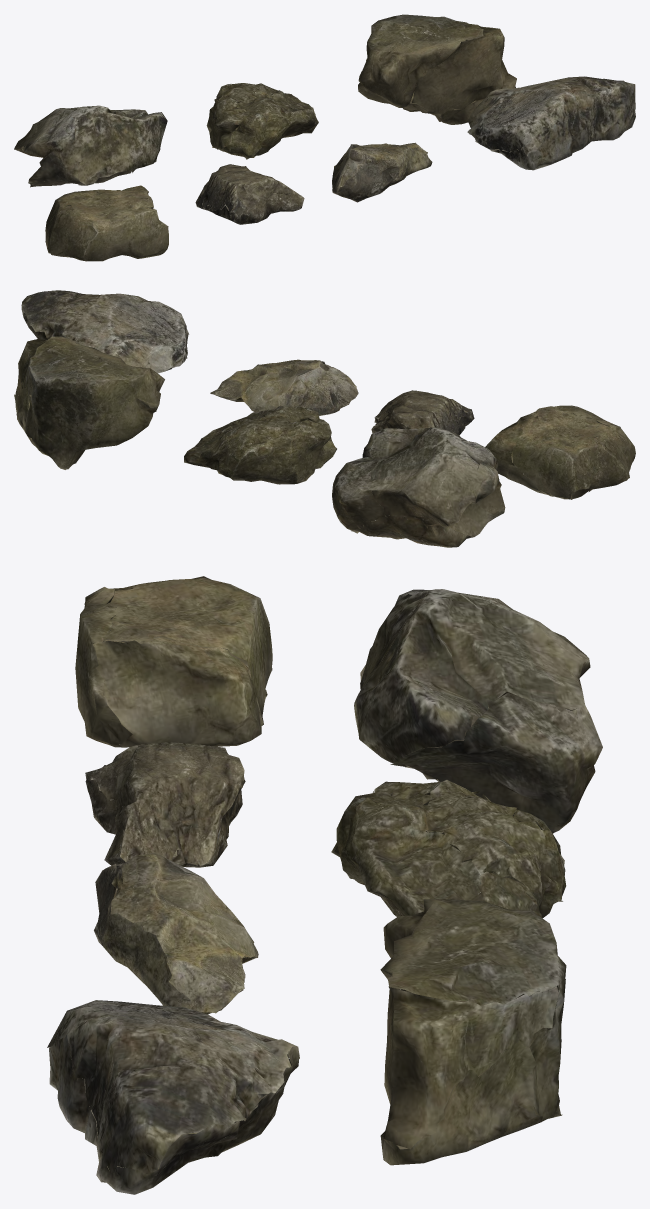
Rendered from ph-rock_moss_set_02.glb.
The picture shows the model from 3 angles, top to bottom: view 1: azimuth 30°, elevation 25°; view 2: azimuth 150°, elevation 25°; view 3: azimuth 270°, elevation 25°; orthographic projection. The views are drawn at different scales.
Parts seen in each view (by area): view 1: rock_moss_set_02; view 2: rock_moss_set_02; view 3: rock_moss_set_02.
Boxes of the visible parts, box(x1,y1,x2,y2) form: rock_moss_set_02: box(14, 14, 635, 261); rock_moss_set_02: box(14, 290, 635, 547); rock_moss_set_02: box(47, 576, 602, 1194).
Size of the model in its own units: 8.28 by 1.37 by 3.42.
Materials: 1 (1 with a texture image).
